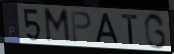5: (22, 7, 42, 42)
A: (94, 12, 121, 45)
G: (143, 12, 168, 51)
M: (42, 7, 72, 45)
P: (69, 9, 93, 44)
T: (120, 14, 140, 46)
